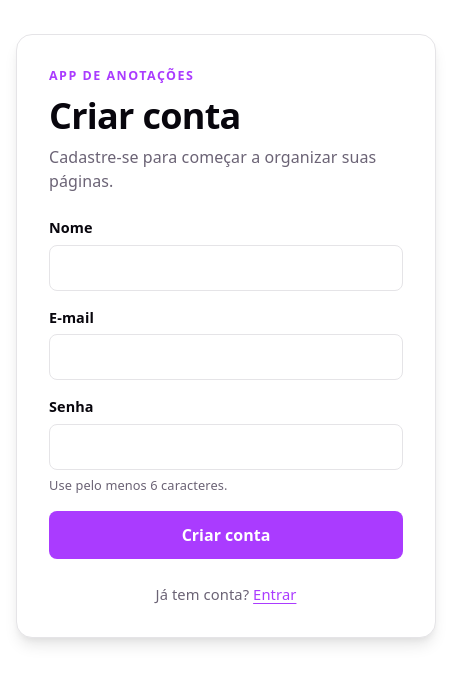
Test: autenticação › e-mail duplicado não cria usuário nem sessão
In the field labelled "Nome": (226, 268) 49,244 -> 403,290, type "Outra Pessoa"
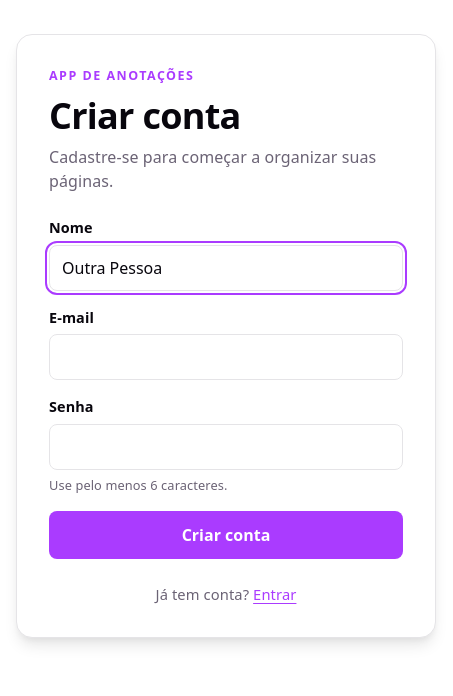
In the field labelled "E-mail": (226, 357) 49,334 -> 403,380, type "Usuario@Exemplo.com"
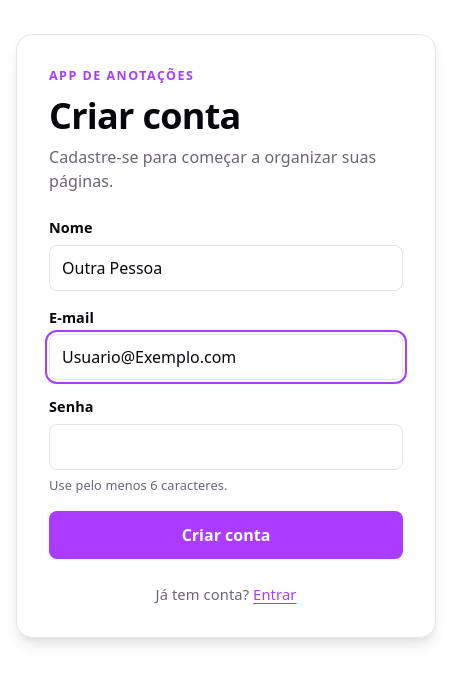
In the password field labelled "Senha": (226, 447) 49,424 -> 403,470, type "senha123"
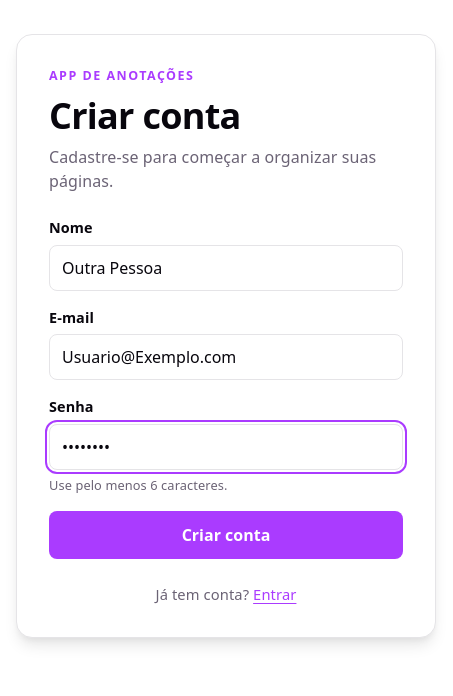
Click the button "Criar conta": (226, 535) 49,511 -> 403,559
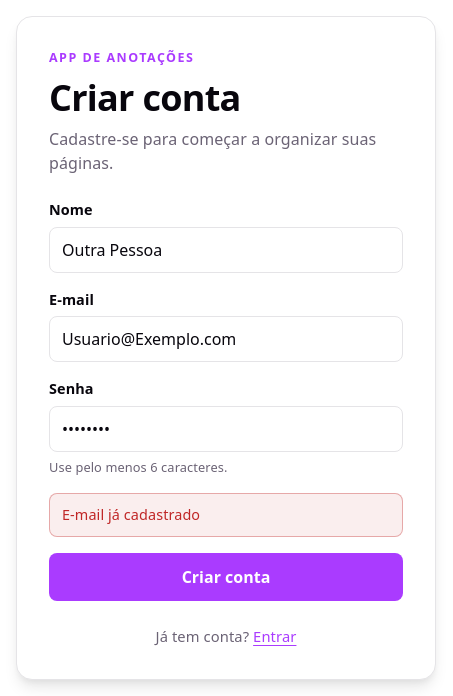
Expected: the text "E-mail já cadastrado" is shown, 49,493 -> 403,536
